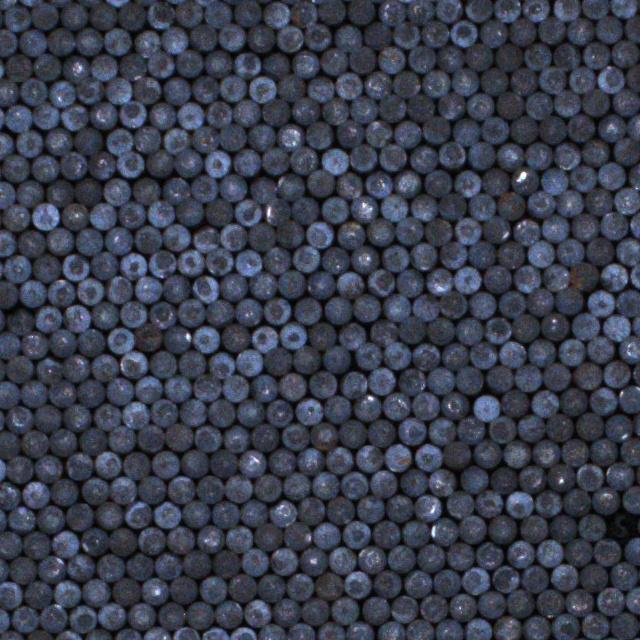tool: (6, 406, 34, 435), (262, 246, 290, 274), (306, 270, 334, 298), (536, 589, 564, 617), (195, 475, 223, 503), (308, 422, 336, 450), (136, 424, 164, 452), (540, 166, 568, 194), (428, 417, 456, 445), (263, 346, 291, 374), (96, 553, 124, 581), (75, 378, 103, 406), (510, 167, 538, 195), (61, 403, 89, 431), (406, 93, 434, 121), (117, 252, 145, 280), (17, 229, 45, 257), (322, 246, 350, 274), (526, 339, 554, 367), (610, 561, 638, 589), (48, 378, 76, 406), (106, 424, 134, 452), (3, 256, 31, 284), (92, 403, 120, 431), (122, 450, 150, 478), (64, 452, 92, 480), (77, 327, 105, 355), (248, 174, 276, 202), (47, 279, 75, 307), (4, 306, 32, 334), (571, 361, 600, 388), (254, 522, 282, 549), (351, 292, 378, 320), (479, 19, 506, 47), (467, 290, 494, 318), (524, 91, 551, 119), (276, 271, 304, 298), (183, 550, 210, 578), (526, 288, 554, 315), (394, 216, 422, 243), (338, 420, 366, 447), (205, 247, 232, 275), (542, 363, 570, 390), (474, 440, 501, 468), (290, 146, 318, 173), (612, 613, 640, 640), (269, 548, 296, 576), (511, 312, 538, 340), (498, 192, 525, 220), (296, 448, 323, 476), (134, 276, 162, 303), (150, 398, 177, 426), (258, 574, 285, 602), (6, 356, 34, 383), (540, 213, 567, 241), (386, 544, 413, 572), (220, 323, 248, 350), (38, 554, 65, 582), (253, 474, 280, 502), (198, 575, 226, 602), (218, 24, 245, 52), (166, 475, 193, 503), (380, 244, 407, 272), (40, 603, 67, 631), (401, 519, 429, 546), (6, 105, 34, 132), (118, 100, 145, 128), (357, 546, 384, 574), (120, 350, 147, 378), (276, 219, 303, 247), (322, 148, 350, 175), (370, 469, 397, 497), (252, 424, 279, 452), (148, 0, 175, 28), (571, 262, 598, 290), (47, 428, 75, 455), (228, 574, 255, 602), (5, 55, 32, 83), (404, 570, 431, 598), (331, 596, 358, 624), (324, 394, 351, 422), (432, 568, 459, 596), (558, 387, 585, 415), (134, 322, 161, 350), (46, 227, 73, 255), (164, 422, 191, 450), (428, 367, 456, 394), (576, 411, 603, 439), (566, 589, 594, 616), (445, 541, 473, 568), (488, 514, 515, 542), (482, 215, 510, 242), (150, 350, 177, 378), (203, 50, 230, 78), (64, 502, 92, 529), (586, 236, 613, 264), (162, 224, 189, 252), (173, 150, 200, 178), (501, 390, 528, 418), (20, 430, 47, 458), (277, 373, 304, 401), (286, 572, 314, 599), (24, 582, 52, 609), (213, 550, 240, 578), (367, 420, 394, 448), (82, 578, 109, 606), (382, 293, 410, 320), (37, 506, 64, 534), (90, 252, 117, 280), (394, 270, 422, 297), (412, 292, 439, 320), (243, 599, 270, 627), (268, 499, 296, 526), (446, 490, 474, 517), (429, 518, 456, 546), (79, 426, 106, 454), (103, 226, 130, 254), (605, 461, 632, 489), (59, 150, 86, 178), (456, 417, 484, 444), (193, 373, 221, 400), (294, 397, 322, 424), (46, 178, 73, 206), (370, 320, 398, 347), (178, 398, 205, 426), (526, 189, 554, 216), (34, 453, 61, 481), (110, 578, 138, 605), (74, 226, 102, 253), (95, 501, 123, 528), (248, 272, 276, 299), (337, 220, 364, 248), (148, 249, 175, 277), (0, 204, 28, 231), (133, 225, 160, 253), (60, 253, 88, 280), (162, 76, 189, 104), (33, 404, 60, 432), (105, 128, 132, 156), (69, 604, 97, 631), (82, 477, 109, 505), (122, 401, 149, 429), (75, 176, 102, 204), (592, 537, 619, 564), (576, 463, 603, 490), (215, 600, 242, 627), (309, 371, 336, 398), (74, 28, 101, 55), (497, 91, 524, 118), (30, 202, 57, 229), (93, 451, 120, 478), (368, 366, 395, 393), (102, 27, 129, 54), (166, 526, 193, 553), (462, 567, 489, 594), (239, 500, 266, 527), (448, 593, 475, 620), (413, 494, 440, 521), (479, 69, 506, 96), (539, 66, 566, 93), (571, 313, 598, 340), (384, 494, 411, 521), (196, 525, 223, 552), (422, 115, 449, 142), (487, 416, 514, 443), (380, 195, 407, 222), (348, 45, 375, 72), (282, 521, 309, 548), (422, 20, 449, 47), (251, 374, 278, 401), (439, 241, 466, 268), (148, 199, 175, 226), (204, 198, 231, 225), (477, 489, 504, 516), (60, 203, 87, 230), (602, 360, 629, 387), (291, 245, 318, 272), (612, 39, 639, 66), (263, 296, 290, 323), (307, 169, 334, 196), (137, 477, 164, 504), (449, 19, 476, 46), (511, 115, 538, 142), (325, 447, 352, 474), (174, 50, 201, 77), (163, 375, 190, 402), (137, 527, 164, 554), (394, 70, 421, 97), (240, 548, 267, 575), (397, 417, 424, 444), (481, 168, 508, 195), (426, 268, 453, 295), (314, 571, 341, 598), (383, 342, 410, 369), (336, 272, 363, 299), (350, 196, 377, 223), (377, 47, 404, 74), (133, 76, 160, 103), (613, 89, 640, 116), (556, 239, 583, 266), (367, 217, 394, 244), (322, 346, 349, 373), (280, 423, 307, 450), (601, 213, 628, 240), (584, 187, 611, 214), (149, 302, 176, 329), (419, 594, 446, 621), (542, 265, 569, 292), (263, 98, 290, 125), (278, 73, 305, 100), (583, 41, 610, 68), (306, 220, 333, 247), (181, 499, 208, 526), (169, 575, 196, 602), (454, 317, 481, 344), (290, 198, 317, 225), (441, 391, 468, 418), (132, 30, 159, 57), (276, 125, 303, 152), (21, 380, 48, 407), (437, 46, 464, 73), (443, 442, 470, 469), (62, 305, 89, 332), (516, 414, 543, 441), (441, 343, 468, 370), (16, 179, 43, 206), (382, 393, 409, 420), (32, 255, 59, 282), (174, 198, 201, 225), (589, 387, 616, 414), (30, 155, 57, 182), (399, 367, 426, 394), (119, 54, 146, 81), (498, 241, 525, 268), (414, 444, 441, 471), (364, 71, 391, 98), (557, 338, 584, 365), (105, 276, 132, 303), (6, 506, 33, 533), (409, 146, 436, 173), (19, 280, 46, 307), (604, 413, 631, 440), (600, 113, 627, 140), (105, 378, 132, 405), (213, 501, 240, 528), (75, 277, 102, 304), (49, 328, 76, 355), (34, 306, 61, 333), (278, 321, 305, 348), (91, 353, 118, 380), (458, 516, 484, 544), (272, 598, 298, 626), (182, 449, 208, 477), (455, 365, 481, 393), (52, 581, 80, 607), (408, 44, 434, 72), (291, 346, 319, 372), (536, 539, 562, 567), (510, 19, 536, 47), (466, 43, 492, 71), (266, 398, 292, 426), (22, 331, 48, 359), (250, 222, 276, 250), (225, 474, 251, 502), (540, 312, 566, 340), (192, 324, 218, 352), (311, 470, 337, 498), (568, 114, 594, 142), (598, 162, 624, 190), (248, 124, 276, 150), (22, 77, 48, 105), (366, 269, 392, 297), (424, 69, 450, 97), (373, 570, 401, 596), (350, 245, 376, 273), (453, 266, 479, 294), (220, 172, 246, 200), (6, 456, 34, 482), (438, 140, 464, 168), (439, 192, 467, 218), (484, 266, 510, 294), (219, 222, 245, 250), (538, 116, 564, 144), (507, 589, 533, 617), (326, 297, 352, 325), (208, 398, 234, 426), (395, 120, 421, 148), (555, 287, 581, 315), (533, 440, 559, 468), (329, 546, 355, 574), (426, 168, 452, 196), (602, 264, 628, 292), (355, 342, 381, 370), (236, 348, 262, 376), (524, 141, 550, 169), (134, 376, 160, 404), (219, 273, 245, 301), (233, 149, 259, 177), (462, 464, 488, 492), (264, 198, 290, 226), (119, 200, 145, 228), (580, 563, 606, 591), (548, 463, 574, 491), (276, 171, 302, 199), (326, 495, 352, 523), (33, 100, 59, 128), (556, 188, 582, 216), (378, 93, 404, 121), (363, 22, 389, 50), (300, 598, 328, 624), (467, 141, 493, 169), (108, 526, 134, 554), (333, 26, 361, 52), (89, 150, 115, 178), (492, 564, 518, 592), (268, 448, 294, 476), (237, 398, 263, 426), (10, 556, 36, 584), (400, 468, 426, 496), (323, 96, 349, 124), (238, 448, 264, 476), (339, 322, 365, 350), (530, 389, 556, 417), (352, 394, 378, 422), (62, 352, 88, 380), (178, 350, 204, 378), (62, 56, 88, 84), (75, 128, 101, 156), (126, 602, 154, 628), (361, 596, 387, 624), (210, 449, 236, 477), (250, 325, 276, 353), (551, 614, 578, 640), (440, 291, 466, 318), (412, 391, 438, 418), (614, 188, 640, 215), (233, 98, 259, 125), (416, 543, 442, 570), (523, 42, 549, 69), (496, 44, 522, 71), (503, 442, 530, 468), (343, 570, 370, 596), (383, 443, 409, 470), (519, 516, 546, 542), (118, 150, 144, 177), (338, 119, 364, 146), (81, 528, 108, 554), (597, 588, 623, 615), (562, 489, 588, 516), (120, 300, 146, 327), (250, 25, 276, 52), (588, 290, 614, 317), (276, 24, 302, 51), (161, 26, 187, 53), (22, 532, 48, 559), (560, 440, 586, 467), (590, 439, 616, 466), (553, 90, 579, 117), (264, 0, 290, 27), (162, 177, 188, 204), (498, 144, 524, 171), (152, 450, 178, 477), (235, 298, 261, 325), (412, 344, 438, 371), (176, 102, 202, 129), (452, 68, 478, 95), (300, 547, 326, 574), (90, 101, 116, 128), (570, 165, 596, 192), (298, 496, 324, 523), (235, 250, 261, 277), (526, 239, 552, 266), (48, 27, 74, 54), (342, 521, 368, 548), (142, 578, 168, 605), (514, 365, 540, 392), (335, 72, 361, 99), (477, 592, 504, 618), (454, 217, 481, 243), (249, 75, 275, 102), (582, 613, 608, 640), (30, 3, 56, 30), (45, 129, 71, 156), (582, 139, 608, 166), (510, 69, 536, 96), (498, 341, 524, 368), (263, 147, 289, 174), (583, 90, 610, 116), (508, 539, 534, 566), (349, 95, 375, 122), (372, 520, 398, 547), (292, 97, 318, 124), (192, 76, 218, 103), (438, 93, 464, 120), (119, 3, 145, 30), (469, 342, 495, 369), (366, 120, 392, 147), (97, 602, 124, 628), (594, 16, 620, 43), (191, 175, 217, 202), (91, 55, 117, 82), (32, 54, 59, 80), (282, 473, 308, 500), (518, 466, 544, 493), (205, 300, 231, 327), (546, 413, 572, 440), (355, 496, 382, 522), (177, 299, 203, 326), (570, 66, 596, 93), (553, 144, 580, 170), (340, 472, 366, 499), (323, 197, 349, 224), (235, 200, 261, 227), (426, 217, 452, 244), (19, 29, 46, 55), (587, 337, 613, 364), (395, 170, 421, 197), (321, 47, 347, 74), (592, 486, 618, 513), (176, 248, 202, 275), (306, 122, 332, 149), (110, 476, 136, 503), (399, 317, 425, 344), (349, 144, 375, 171), (89, 202, 115, 229), (567, 18, 593, 45), (50, 479, 77, 505), (392, 595, 418, 622), (23, 481, 49, 508), (570, 213, 596, 240), (0, 156, 27, 182), (294, 296, 320, 323), (426, 317, 452, 344), (102, 177, 128, 204), (164, 326, 190, 353), (521, 565, 547, 592), (552, 42, 578, 69), (132, 177, 158, 204), (126, 552, 152, 579), (309, 321, 335, 348), (486, 364, 512, 391), (474, 395, 500, 422), (66, 554, 92, 581), (489, 468, 516, 494), (500, 289, 526, 316), (192, 225, 219, 251), (106, 327, 132, 354), (365, 171, 392, 197), (465, 94, 492, 120), (550, 515, 576, 542), (52, 529, 78, 556), (90, 4, 117, 30), (604, 314, 631, 340), (17, 130, 43, 157), (313, 521, 339, 548), (192, 275, 218, 302), (125, 500, 152, 526), (163, 274, 189, 301), (293, 51, 319, 78), (92, 302, 118, 329), (155, 500, 181, 527), (76, 76, 102, 103), (340, 372, 366, 399), (204, 0, 231, 26), (35, 356, 61, 383), (262, 53, 289, 79), (410, 242, 435, 270), (205, 149, 230, 177), (51, 80, 76, 108), (411, 193, 436, 221), (454, 168, 479, 196), (147, 148, 172, 176), (218, 74, 244, 100), (566, 538, 592, 564), (222, 376, 248, 402), (537, 16, 563, 42), (513, 266, 539, 292), (468, 242, 494, 268), (354, 446, 380, 472), (204, 100, 230, 126), (154, 552, 180, 578), (380, 144, 406, 170), (191, 127, 217, 153), (579, 515, 605, 541), (185, 602, 211, 628), (189, 25, 215, 51), (134, 127, 160, 153), (482, 116, 508, 142), (597, 66, 623, 92), (507, 491, 533, 517), (336, 171, 362, 197), (195, 426, 221, 452), (104, 78, 130, 104), (148, 52, 174, 78), (476, 542, 502, 568), (226, 526, 252, 552), (552, 564, 578, 590), (428, 468, 454, 494), (61, 104, 87, 130), (535, 490, 561, 516), (452, 118, 478, 144), (236, 0, 262, 26), (289, 0, 315, 26), (60, 4, 86, 30), (159, 602, 185, 628), (513, 220, 539, 246), (207, 352, 233, 378), (10, 605, 36, 631), (164, 128, 190, 154), (2, 6, 28, 32), (615, 290, 640, 317), (615, 136, 640, 163), (468, 192, 493, 219), (394, 21, 419, 48), (521, 615, 548, 640), (304, 24, 329, 51), (150, 101, 175, 128), (484, 316, 509, 343), (174, 0, 201, 25), (224, 426, 249, 453), (318, 0, 346, 24), (235, 52, 260, 78), (219, 125, 244, 151), (307, 78, 333, 103), (494, 616, 521, 640), (406, 0, 433, 24), (378, 0, 404, 24), (617, 237, 640, 264), (347, 0, 373, 23), (0, 582, 21, 610), (0, 530, 21, 558), (463, 618, 489, 640), (436, 619, 463, 640), (405, 619, 432, 640), (521, 0, 548, 21), (0, 332, 20, 360), (494, 0, 520, 21), (619, 386, 640, 412), (466, 0, 492, 21), (620, 337, 640, 364), (620, 439, 640, 466), (0, 430, 19, 458), (0, 481, 19, 509), (436, 0, 461, 21), (553, 0, 579, 20), (346, 621, 373, 640), (0, 381, 19, 408), (316, 621, 343, 640), (378, 621, 404, 640), (0, 78, 18, 105), (0, 280, 17, 308), (582, 0, 608, 18), (623, 486, 640, 513), (287, 623, 314, 640), (612, 0, 639, 17), (624, 535, 640, 563), (259, 624, 286, 640), (0, 29, 15, 56), (625, 15, 640, 42), (626, 64, 640, 92), (0, 180, 14, 208), (0, 131, 14, 159), (625, 587, 640, 613), (0, 229, 14, 256), (627, 113, 640, 141), (172, 626, 198, 640), (201, 626, 227, 640), (144, 627, 171, 640), (229, 627, 255, 640), (84, 628, 112, 640), (113, 628, 140, 640), (629, 210, 640, 238), (629, 163, 640, 191), (26, 629, 53, 640), (55, 629, 82, 640), (630, 264, 640, 290), (0, 630, 24, 640), (0, 607, 8, 634), (633, 410, 640, 438), (632, 313, 640, 337), (0, 556, 7, 583), (77, 0, 104, 7), (633, 360, 640, 386), (46, 0, 74, 6), (105, 0, 132, 6), (0, 509, 6, 535), (19, 0, 44, 6), (0, 306, 5, 335), (0, 0, 16, 9), (0, 356, 5, 384), (0, 102, 5, 130), (0, 407, 5, 435), (0, 455, 5, 482), (132, 0, 159, 5), (193, 0, 217, 5)
tool_b: (605, 512, 637, 542)
